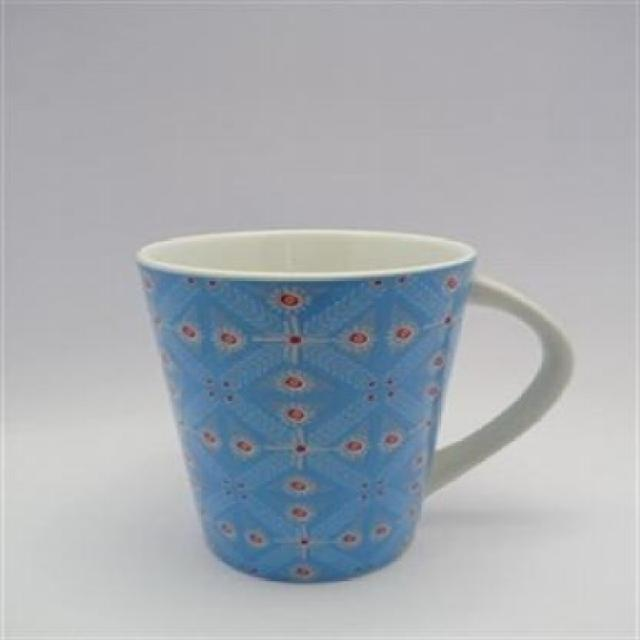taza: (134, 226, 576, 586)
